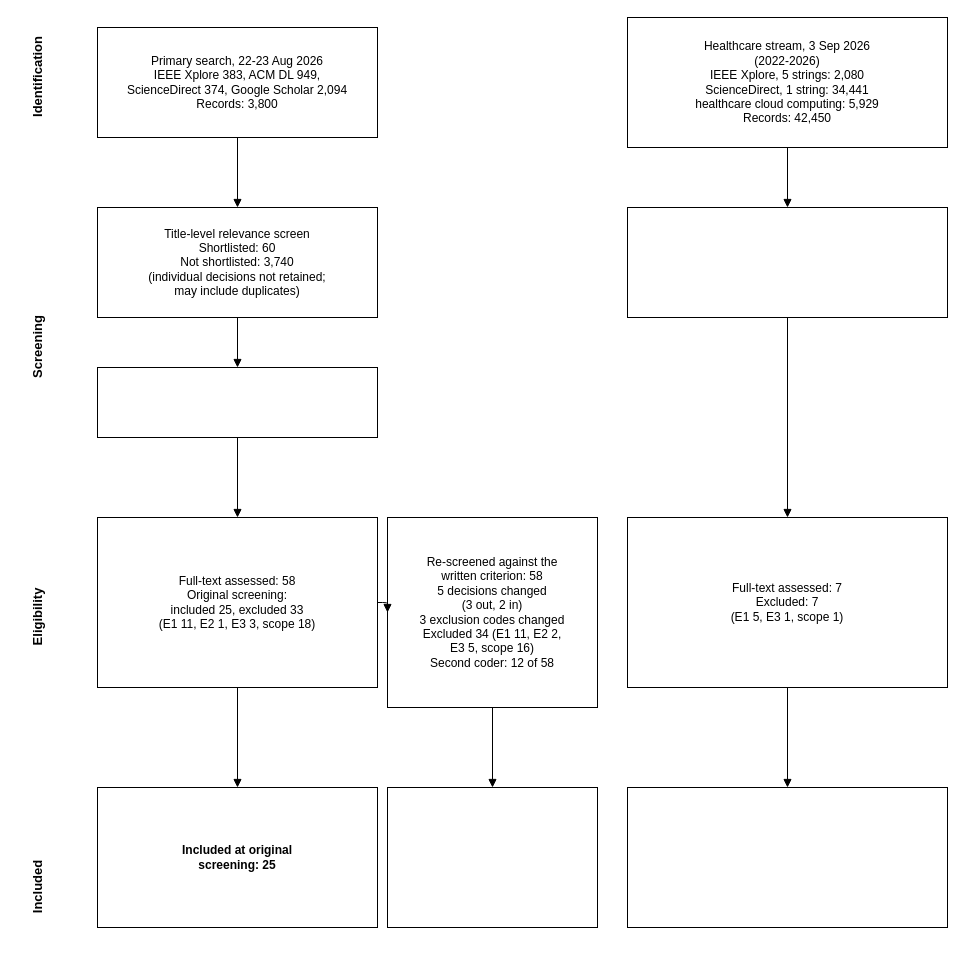
Some shapes in this 965 by 955 pixel diagram are drawn without their labels. Here are the shapes that lost their labels. From the top down, the box of each, then its label:
(626, 206, 948, 318): Title screen Retained for full text: 7 Not retained: 42,443
(96, 366, 378, 438): Duplicates removed from shortlist: 2
(386, 786, 598, 928): Included after re-screening: 24 (coded in Matrices 1-4)
(626, 786, 948, 928): Included from the healthcare stream: 0
